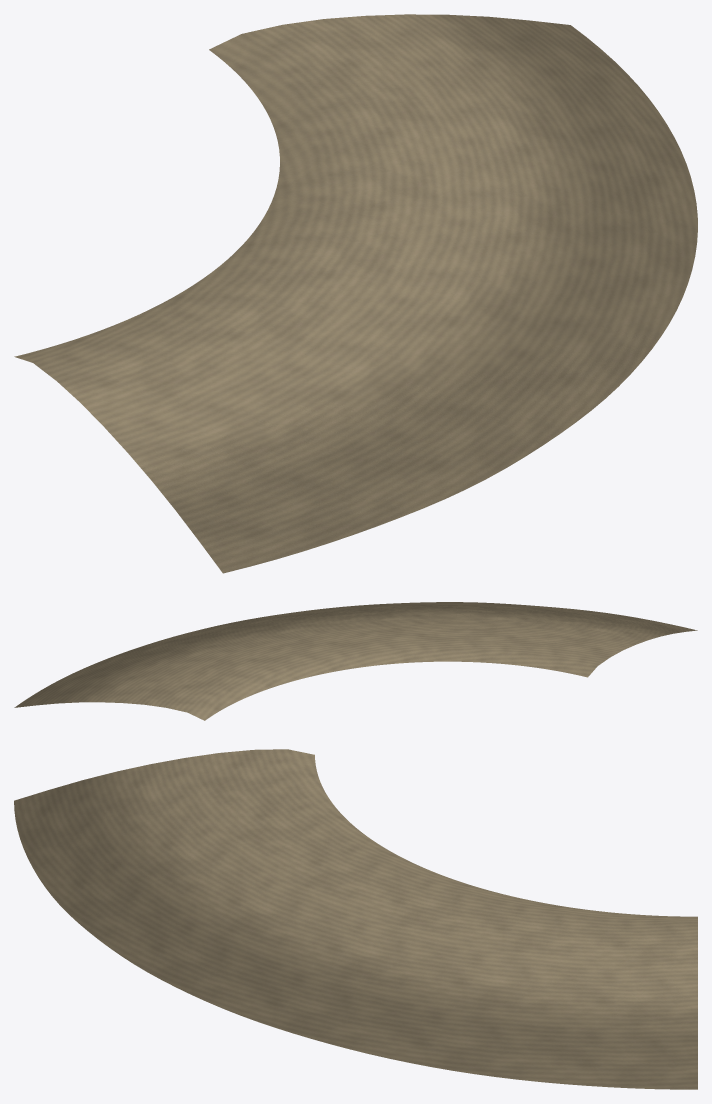
File: beach_sand_outer_v5_dead.glb
The picture shows the model from 3 angles, top to bottom: view 1: azimuth 30°, elevation 25°; view 2: azimuth 150°, elevation 25°; view 3: azimuth 270°, elevation 25°; orthographic projection. The views are drawn at different scales.
Visible parts, largest first — view 1: beach_sand_outer; view 2: beach_sand_outer; view 3: beach_sand_outer.
Boxes of the visible parts, box(x1,y1,x2,y2) form: beach_sand_outer: box(14, 14, 697, 573); beach_sand_outer: box(14, 602, 697, 720); beach_sand_outer: box(14, 749, 697, 1089).
Size of the model in its own units: 10 by 0.8495 by 10.
Materials: 1 (1 with a texture image).
